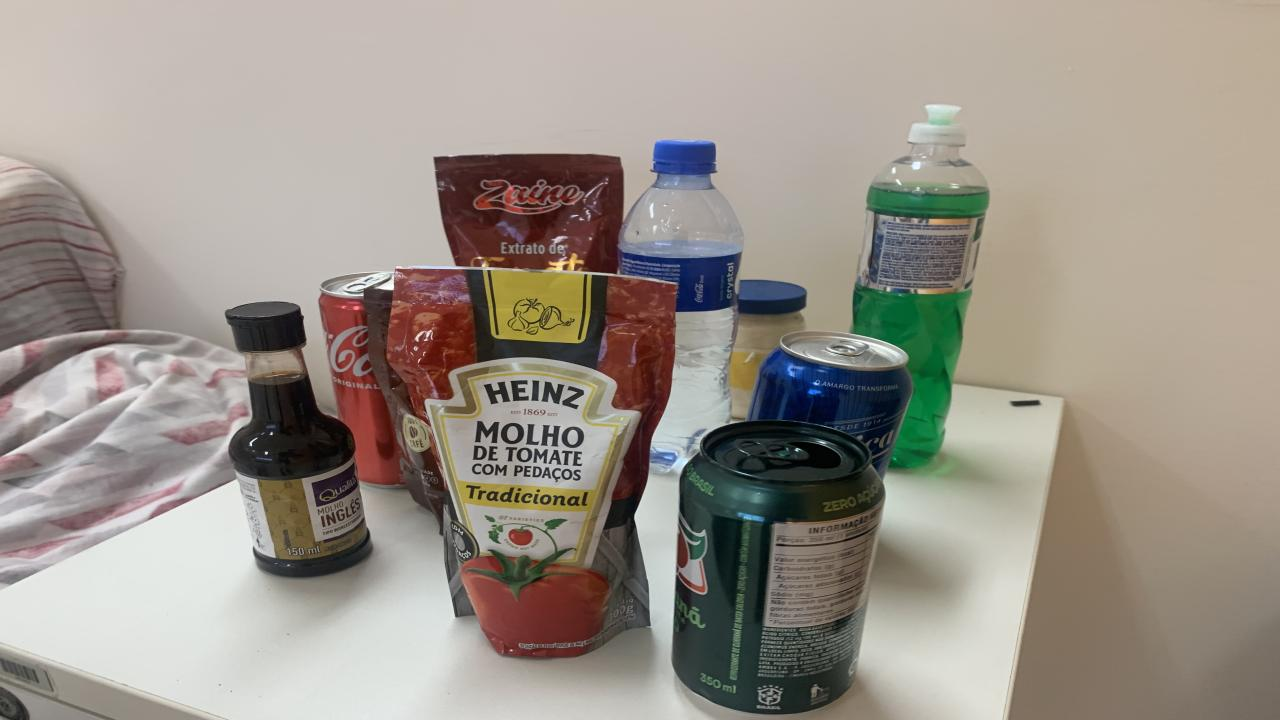Coffee-Pantry_Items: (365, 283, 445, 519)
Coke-Drinks: (318, 272, 405, 488)
Detergent-Cleanup_Items: (852, 105, 990, 467)
English_Sauce-Pantry_Items: (228, 302, 372, 576)
Guarana_Can-Drinks: (672, 420, 885, 714)
Mayonnaise-Pantry_Items: (730, 279, 808, 418)
Tomato_Sauce-Pantry_Items: (388, 268, 675, 656), (435, 154, 622, 274)
Tonic-Drinks: (748, 332, 912, 476)
Water_Bottle-Drinks: (618, 141, 745, 471)
